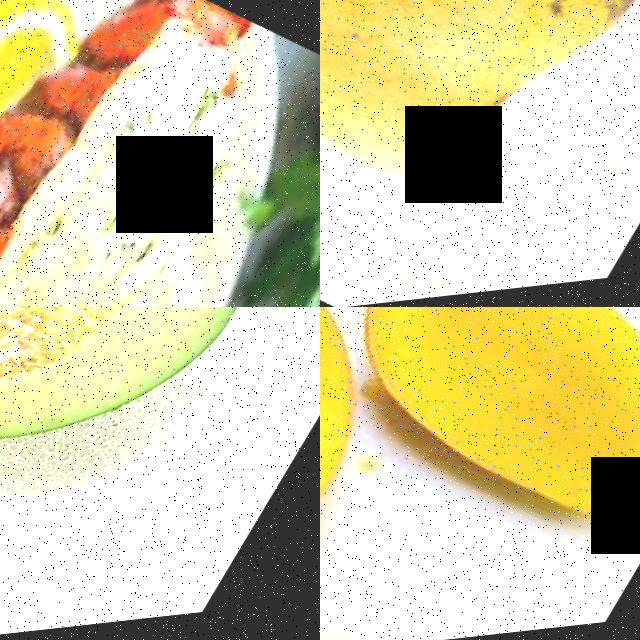lemon: (0, 0, 59, 261)
lobster tails: (0, 0, 241, 307)
mango: (320, 0, 640, 297), (380, 307, 640, 584), (320, 307, 417, 605)
melon: (0, 307, 320, 603)
